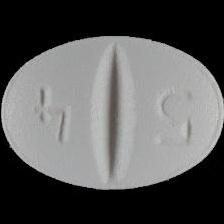43063-666: (0, 0, 224, 224)
